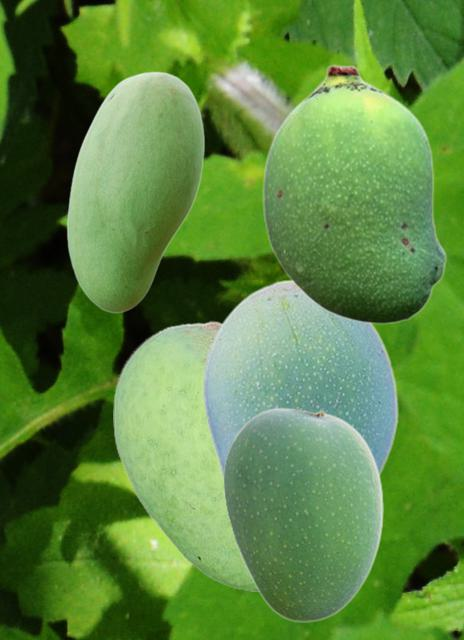green_mango: (262, 64, 446, 324), (201, 278, 398, 488), (113, 320, 256, 590), (223, 407, 383, 621), (66, 71, 203, 312)
